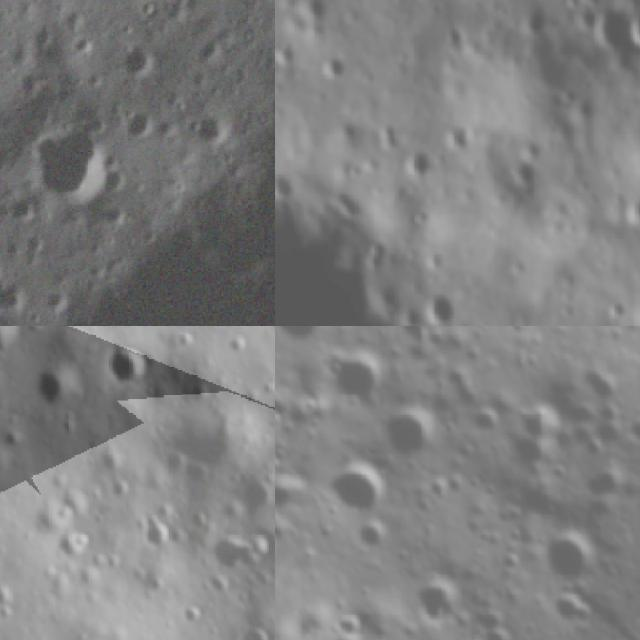crater: (30, 115, 130, 211), (523, 513, 617, 601), (396, 556, 481, 640), (317, 339, 403, 422), (370, 389, 453, 471), (322, 451, 402, 529), (275, 458, 322, 533), (340, 511, 397, 567), (210, 530, 273, 577), (183, 109, 244, 154), (35, 362, 82, 419), (109, 42, 161, 88), (106, 342, 151, 395), (275, 326, 349, 358), (592, 2, 632, 56), (421, 275, 459, 326), (235, 482, 275, 527), (123, 103, 158, 149), (395, 144, 437, 176), (0, 274, 28, 320), (315, 51, 349, 85), (293, 0, 333, 27), (0, 590, 24, 630), (444, 20, 471, 54), (0, 326, 24, 363), (623, 405, 640, 456), (275, 166, 299, 200), (234, 623, 274, 640), (631, 2, 640, 54), (627, 292, 640, 326)
